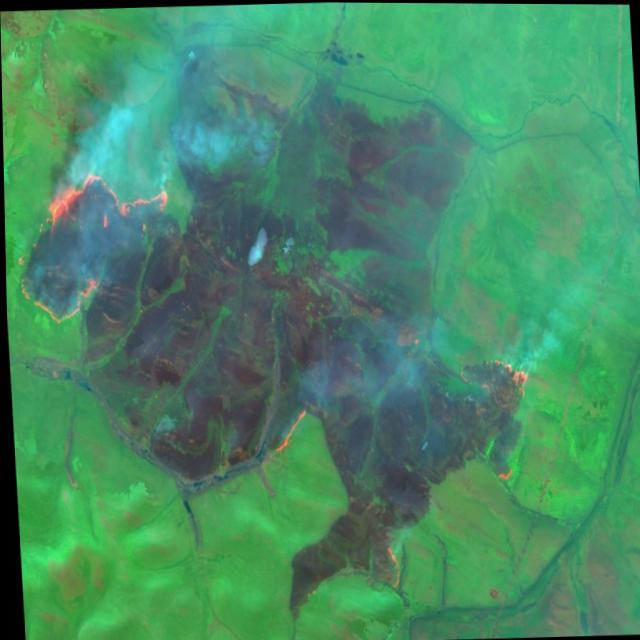fire: (10, 162, 181, 335), (448, 340, 538, 492), (259, 385, 315, 465), (375, 534, 410, 593)
